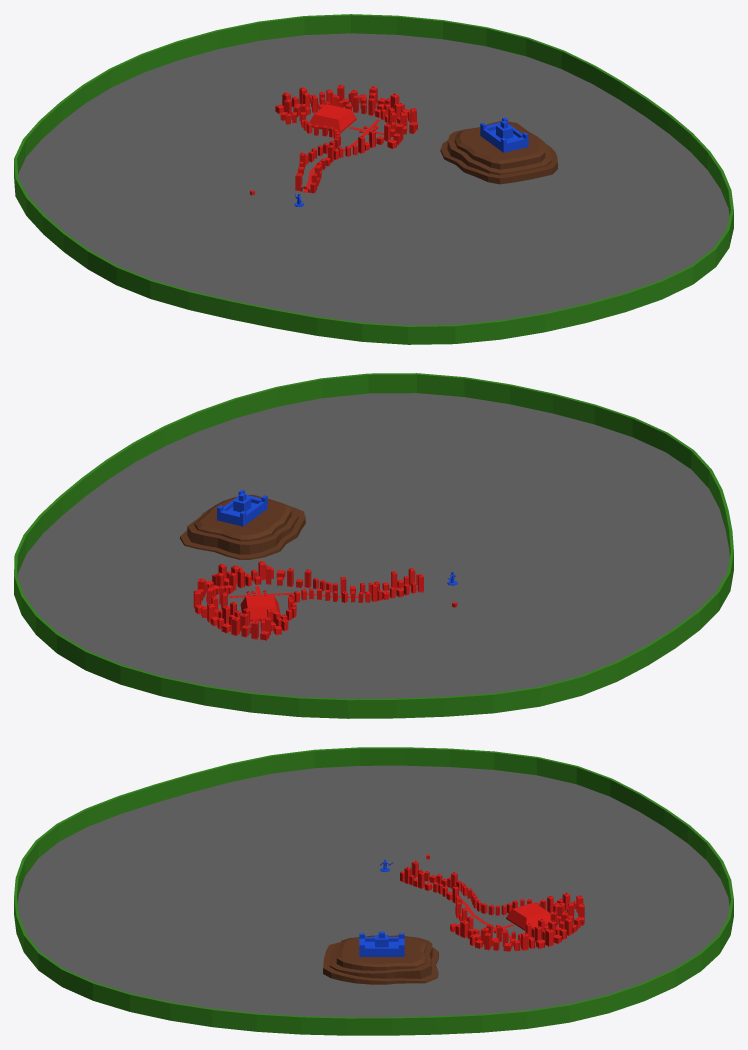
The model's file is BlockingCidade.fbx.
The picture shows the model from 3 angles, top to bottom: view 1: azimuth 30°, elevation 25°; view 2: azimuth 150°, elevation 25°; view 3: azimuth 270°, elevation 25°; orthographic projection. The views are drawn at different scales.
Visible parts, largest first — view 1: Walls.001, CityGround, Castle Mountain, Castle, GuildaBuildingNorth; view 2: Walls.001, CityGround, Castle Mountain, Castle, GuildaBuildingNorth; view 3: Walls.001, CityGround, Castle Mountain, Castle, GuildaBuildingNorth.
Part boxes in pixels (x1=…): Walls.001: x1=18, y1=33, x2=729, y2=325; CityGround: x1=14, y1=14, x2=733, y2=344; Castle Mountain: x1=440, y1=120, x2=557, y2=184; Castle: x1=480, y1=117, x2=528, y2=152; GuildaBuildingNorth: x1=309, y1=104, x2=356, y2=133; Walls.001: x1=17, y1=393, x2=729, y2=698; CityGround: x1=14, y1=373, x2=733, y2=718; Castle Mountain: x1=180, y1=494, x2=305, y2=559; Castle: x1=217, y1=490, x2=267, y2=526; GuildaBuildingNorth: x1=240, y1=595, x2=279, y2=621; Walls.001: x1=18, y1=765, x2=729, y2=1017; CityGround: x1=14, y1=747, x2=733, y2=1035; Castle Mountain: x1=323, y1=935, x2=438, y2=984; Castle: x1=359, y1=931, x2=404, y2=956; GuildaBuildingNorth: x1=506, y1=902, x2=550, y2=930.
Bounding box in the file's own units: 263426 × 15410 × 295495.
